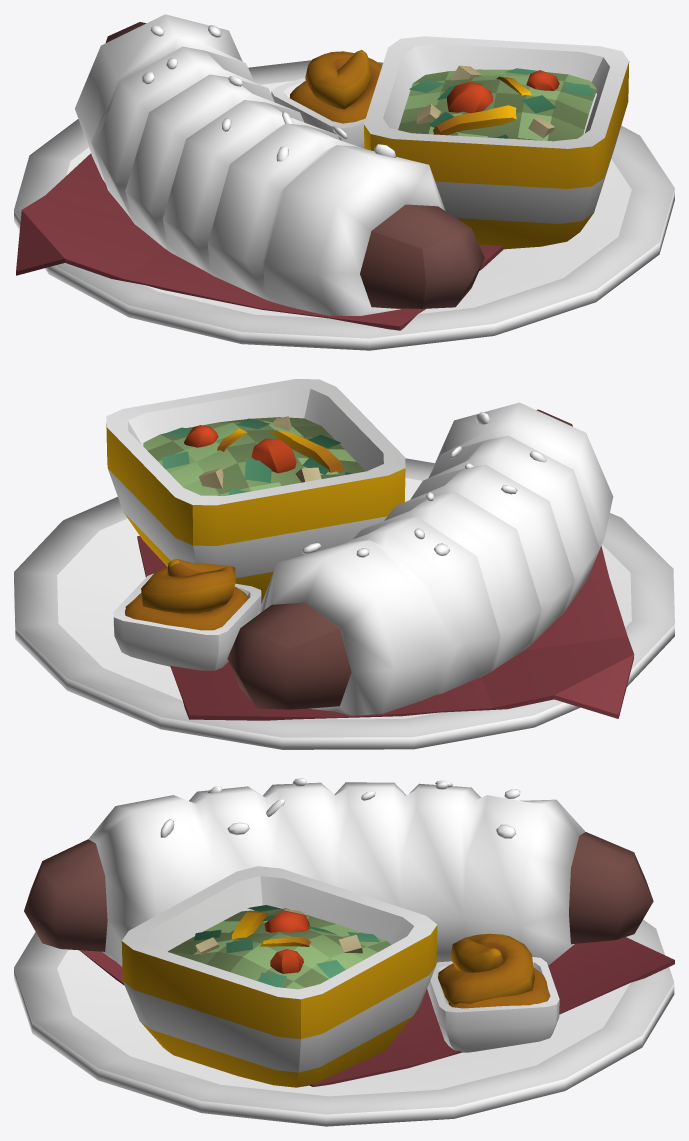
File: 3D_dishe_Items_Saussage-bread.fbx
3 views of the same model, one above another, from view 1: azimuth 30°, elevation 25°; view 2: azimuth 150°, elevation 25°; view 3: azimuth 270°, elevation 25° (orthographic).
Visible parts, largest first — view 1: 3D_dishe_Items_Saussage-bread; view 2: 3D_dishe_Items_Saussage-bread; view 3: 3D_dishe_Items_Saussage-bread.
Boxes of the visible parts, box(x1,y1,x2,y2) form: 3D_dishe_Items_Saussage-bread: box(14, 14, 674, 350); 3D_dishe_Items_Saussage-bread: box(14, 379, 674, 749); 3D_dishe_Items_Saussage-bread: box(14, 778, 674, 1126).
Size of the model in its own units: 72.31 by 20.89 by 70.8.
